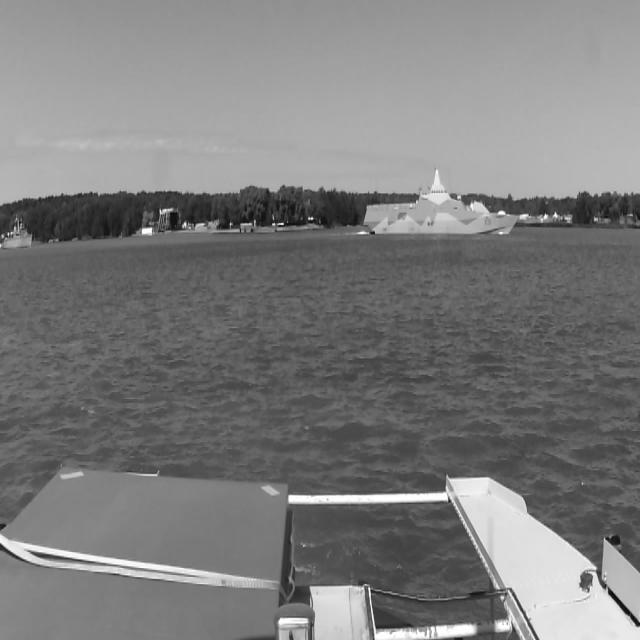ship: (362, 167, 518, 237), (1, 217, 33, 248)
